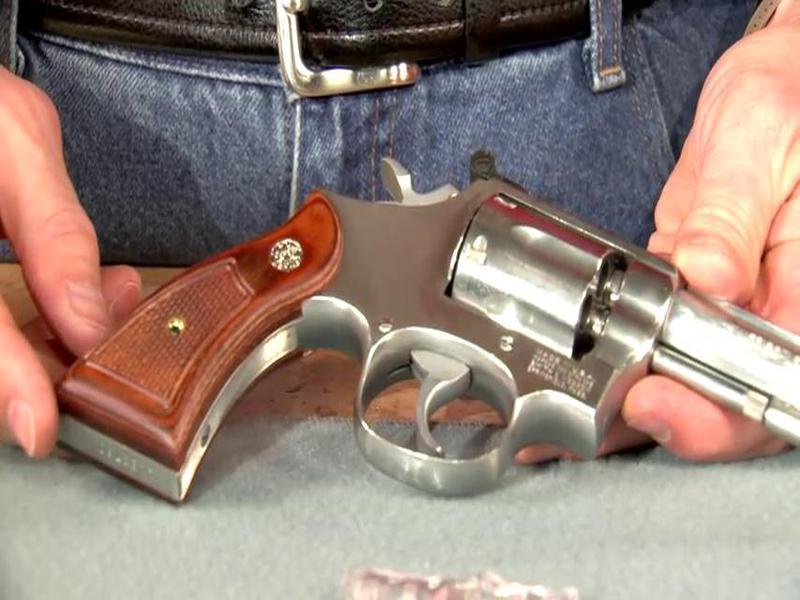Revolver: (88, 156, 800, 530)
